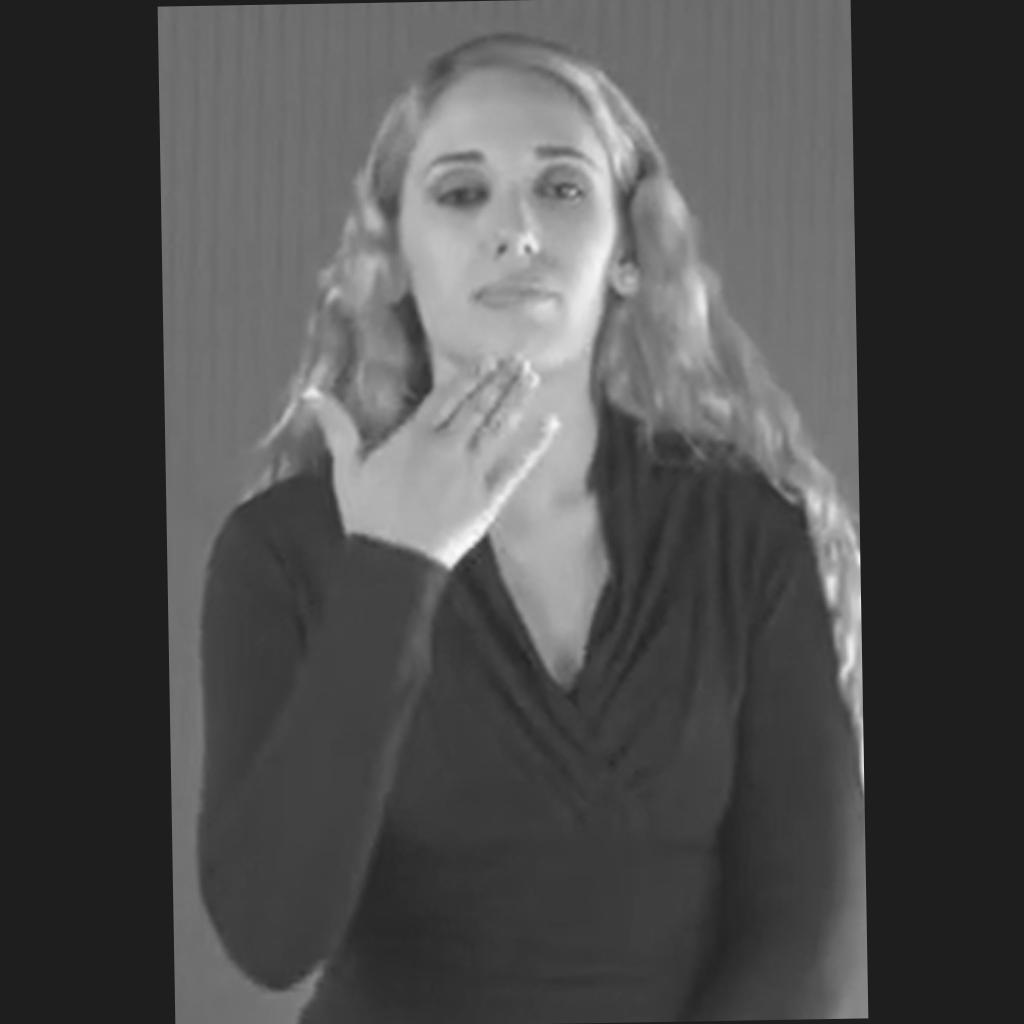thank-you: (300, 351, 562, 568)
